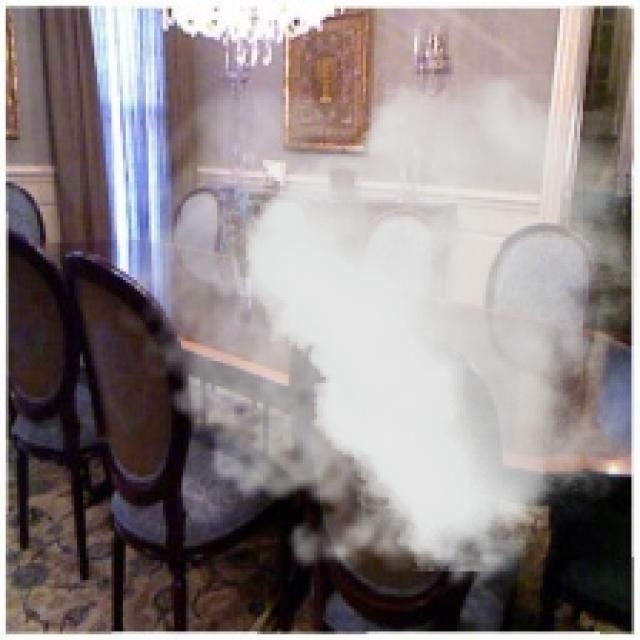Smoke: (105, 74, 638, 603)
